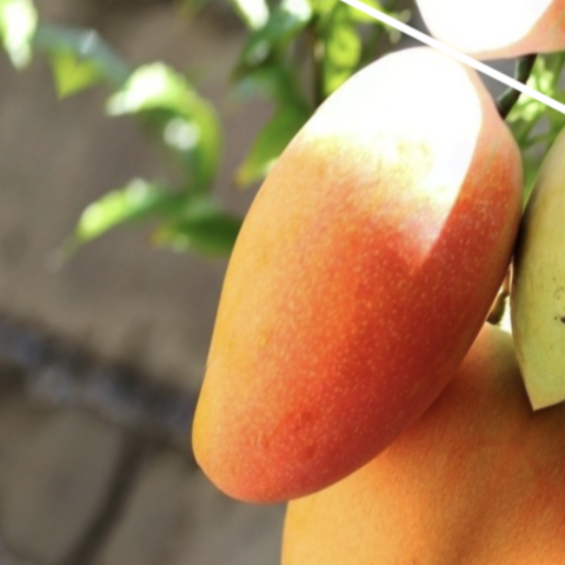mango: (87, 0, 565, 565)
